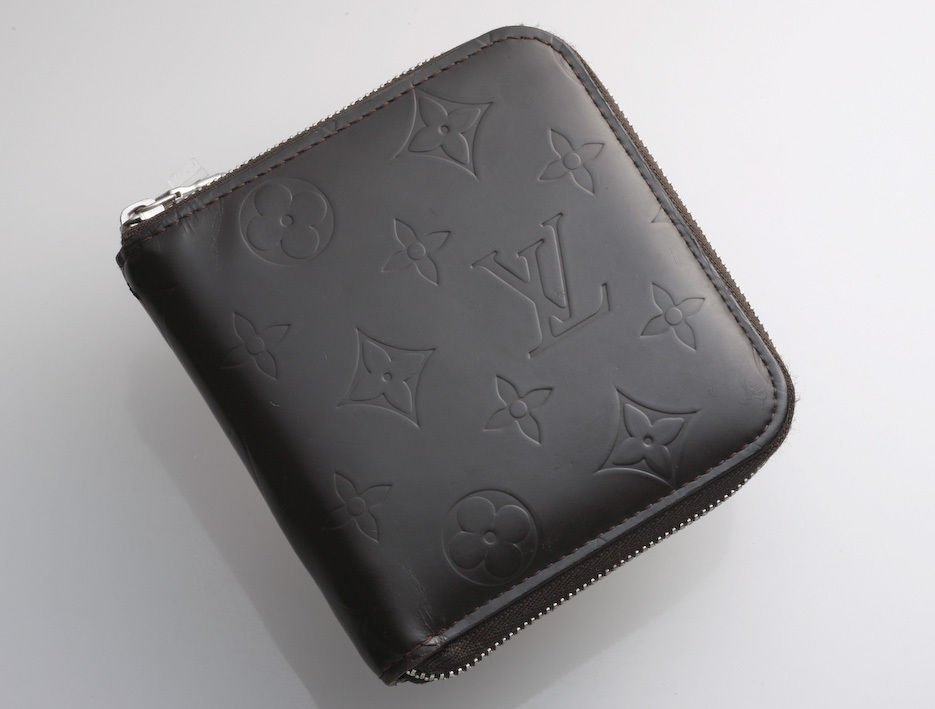LOUIS-VUITTON: (465, 211, 616, 361)
